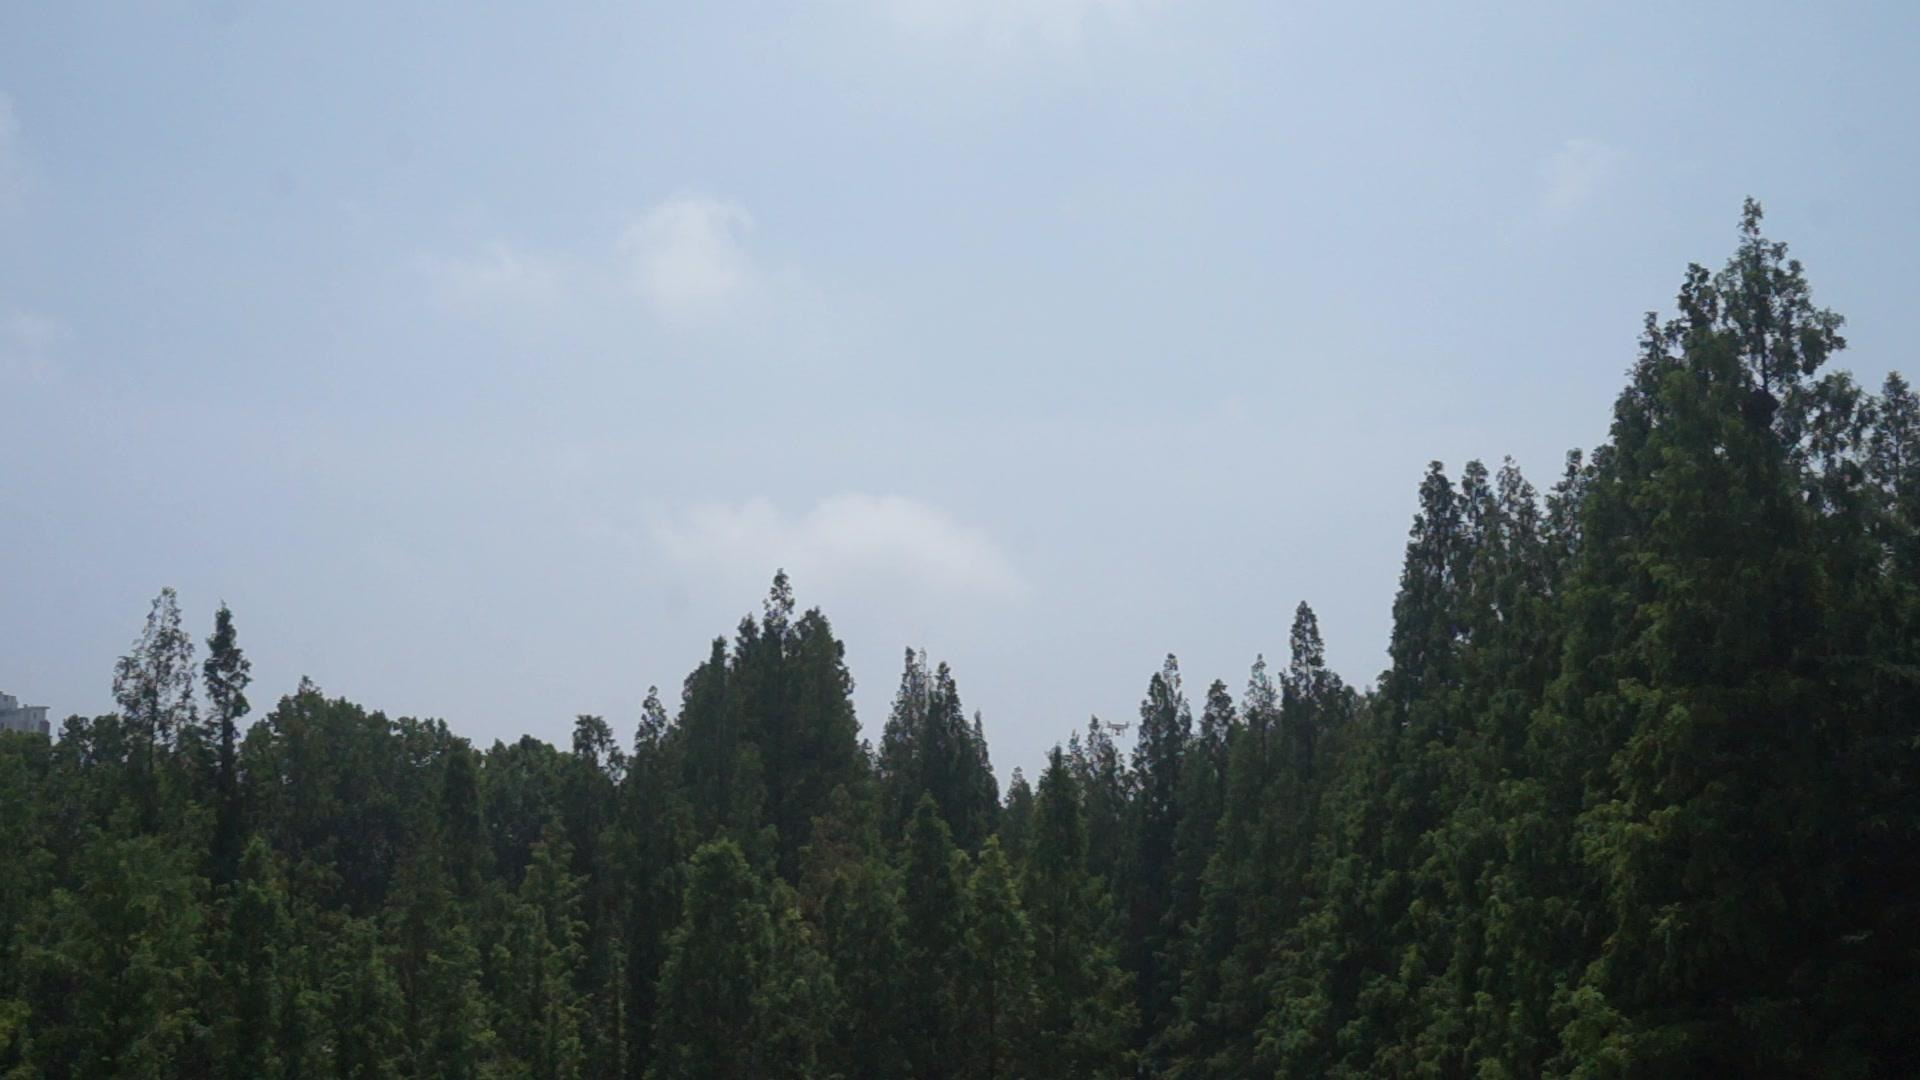UAV: (1105, 723, 1139, 738)
